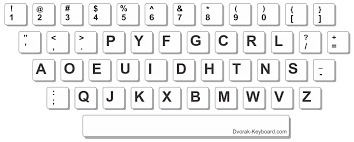keyboard: (4, 1, 350, 141)
